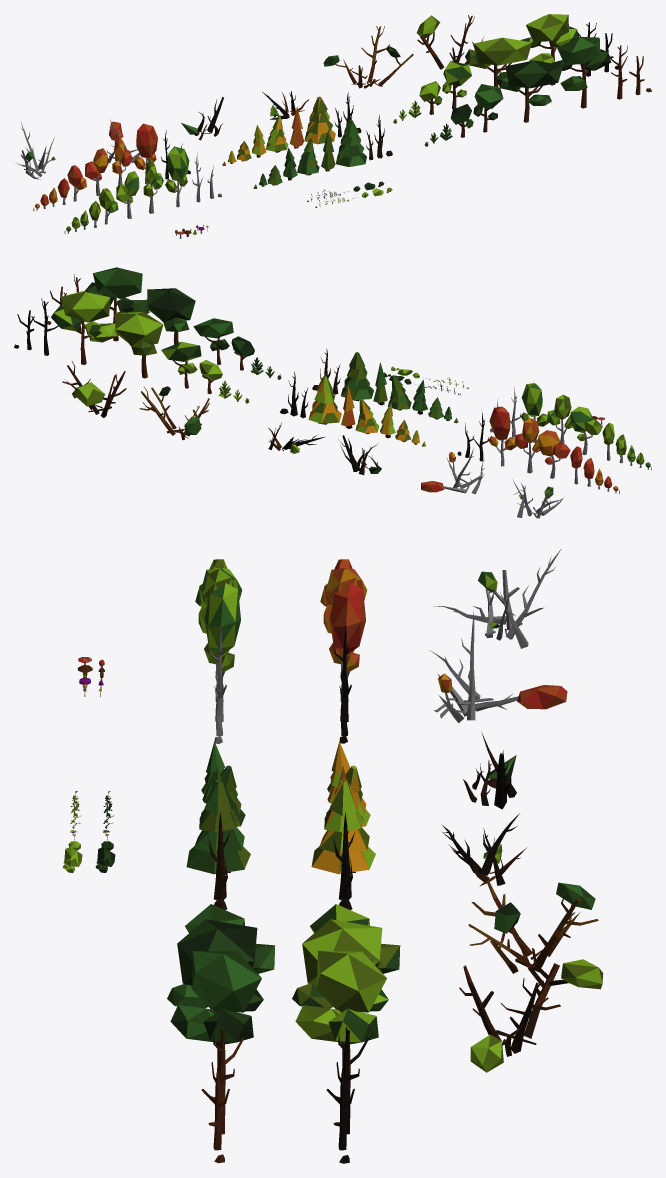
Rendered from LowPolyNaturePackage.FBX.
The picture shows the model from 3 angles, top to bottom: view 1: azimuth 30°, elevation 25°; view 2: azimuth 150°, elevation 25°; view 3: azimuth 270°, elevation 25°; orthographic projection. The views are drawn at different scales.
Visible parts, largest first — view 1: Tree3_M1_6_big, Tree3_M1_7_big, Tree3_M2_6_big, Tree3_M2_7_big, Tree3_M1_LyingTree, Tree2_M1_7_big, Tree2_M2_7_big, Tree1_M1_9_big, Tree3_M2_LyingTree, Tree1_M2_9_big, Tree3_M1_5_medium, Tree3_M2_5_medium (+16 smaller); view 2: Tree3_M2_7_big, Tree3_M1_7_big, Tree3_M2_6_big, Tree3_M1_6_big, Tree3_M2_LyingTree, Tree3_M1_LyingTree, Tree2_M2_7_big, Tree2_M1_7_big, Tree1_M2_9_big, Tree3_M2_5_medium, Tree3_M1_5_medium, Tree1_M2_LyingTree (+14 smaller); view 3: Tree3_M1_7_big, Tree3_M2_7_big, Tree3_M2_LyingTree, Tree3_M2_6_big, Tree3_M1_6_big, Tree3_M1_LyingTree, Tree2_M2_7_big, Tree2_M1_7_big, Tree1_M2_LyingTree, Tree1_M2_9_big, Tree1_M1_9_big, Tree1_M1_LyingTree (+2 smaller).
Boxes of the visible parts, <box> form: Tree3_M1_6_big: <box>496,60,563,122</box>; Tree3_M1_7_big: <box>552,37,611,108</box>; Tree3_M2_6_big: <box>465,37,531,86</box>; Tree3_M2_7_big: <box>520,14,578,85</box>; Tree3_M1_LyingTree: <box>323,26,413,88</box>; Tree2_M1_7_big: <box>335,119,366,166</box>; Tree2_M2_7_big: <box>304,96,335,144</box>; Tree1_M1_9_big: <box>165,146,189,207</box>; Tree3_M2_LyingTree: <box>416,15,490,69</box>; Tree1_M2_9_big: <box>134,123,157,184</box>; Tree3_M1_5_medium: <box>473,84,503,132</box>; Tree3_M2_5_medium: <box>442,61,471,109</box>; Tree3_M2_7_big: <box>51,291,117,364</box>; Tree3_M1_7_big: <box>85,267,149,341</box>; Tree3_M2_6_big: <box>115,311,163,378</box>; Tree3_M1_6_big: <box>147,288,195,344</box>; Tree3_M2_LyingTree: <box>62,361,126,417</box>; Tree3_M1_LyingTree: <box>139,386,209,440</box>; Tree2_M2_7_big: <box>308,375,341,424</box>; Tree2_M1_7_big: <box>341,352,373,401</box>; Tree1_M2_9_big: <box>488,406,516,466</box>; Tree3_M2_5_medium: <box>161,341,201,388</box>; Tree3_M1_5_medium: <box>193,318,233,364</box>; Tree1_M2_LyingTree: <box>421,448,484,494</box>; Tree3_M1_7_big: <box>170,951,263,1096</box>; Tree3_M2_7_big: <box>295,951,388,1096</box>; Tree3_M2_LyingTree: <box>459,946,603,1072</box>; Tree3_M2_6_big: <box>292,919,400,1012</box>; Tree3_M1_6_big: <box>167,919,275,1012</box>; Tree3_M1_LyingTree: <box>468,881,598,973</box>; Tree2_M2_7_big: <box>311,779,375,874</box>; Tree2_M1_7_big: <box>186,779,250,874</box>; Tree1_M2_LyingTree: <box>429,611,567,723</box>; Tree1_M2_9_big: <box>329,583,365,701</box>; Tree1_M1_9_big: <box>204,583,240,701</box>; Tree1_M1_LyingTree: <box>433,548,561,648</box>.
Size of the model in its own units: 7006 by 2792 by 855.
